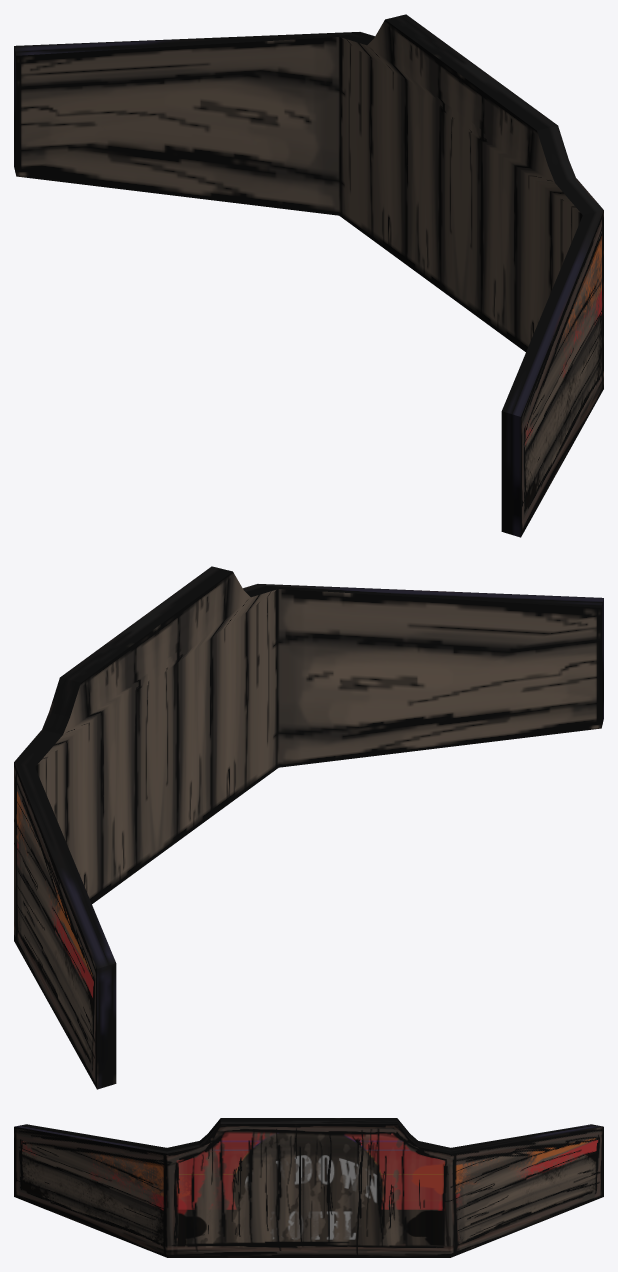
File: Sign_Hotel_FrontCurved.fbx
3 renders of one model, top to bottom at view 1: azimuth 30°, elevation 25°; view 2: azimuth 150°, elevation 25°; view 3: azimuth 270°, elevation 25°, orthographic. The views are drawn at different scales.
Visible parts, largest first — view 1: pCube578; view 2: pCube578; view 3: pCube578.
Part boxes in pixels (x1,y1,x2,y2): pCube578: [14, 14, 603, 537]; pCube578: [14, 566, 603, 1089]; pCube578: [14, 1118, 603, 1257].
Size of the model in its own units: 5.29 by 5.21 by 20.83.
